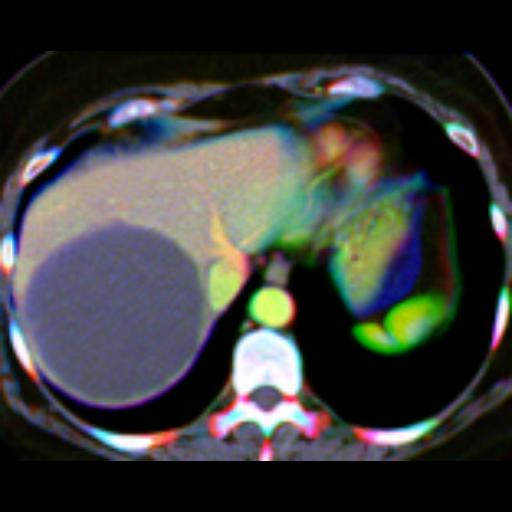Cyst: (24, 222, 204, 403)
